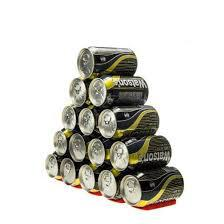beer: (44, 45, 188, 209)
